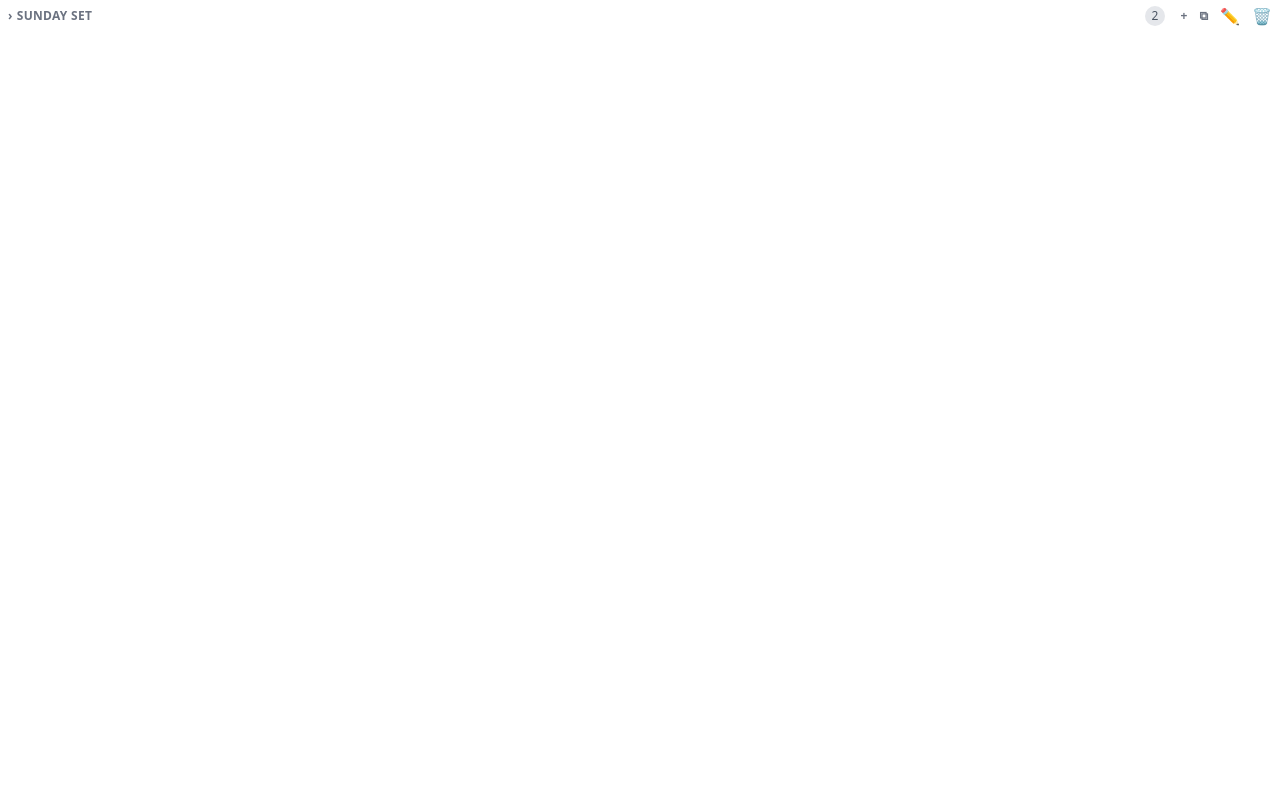
Scenario: CollectionGroup delete — also delete songs option › does nothing when cancelled
Click the button named "delete collection sunday set" at [1262, 16], box top-left (1248, 0), bottom-right (1276, 32)
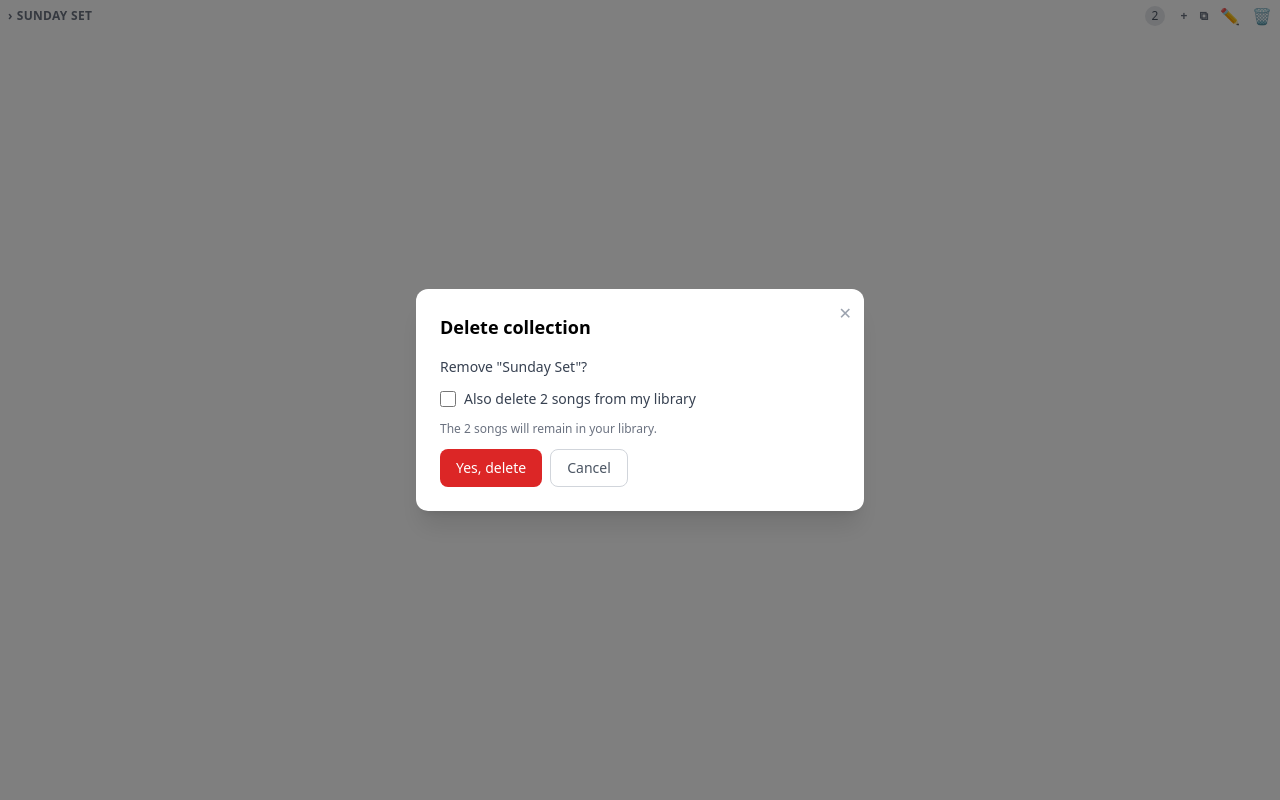
Click the button "Cancel" at [589, 468], box top-left (550, 449), bottom-right (628, 487)
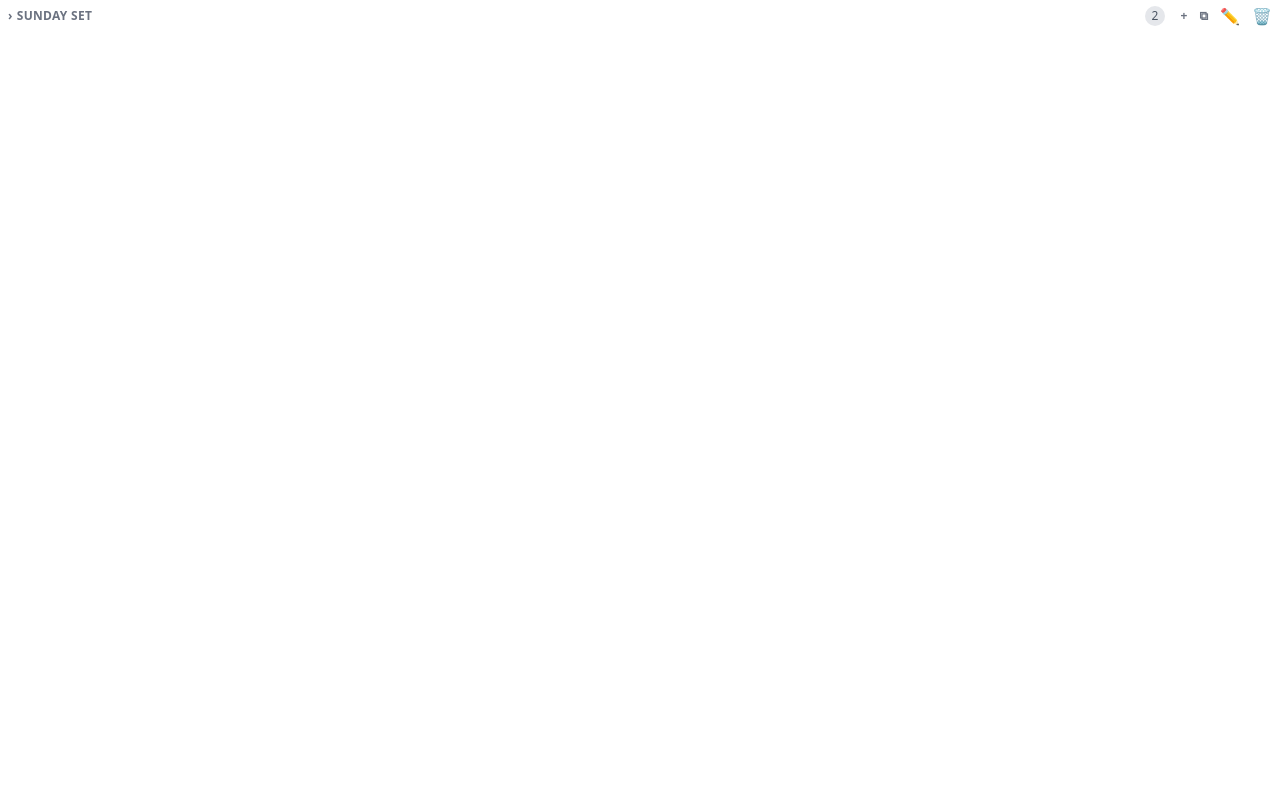
Result: the dialog is gone
